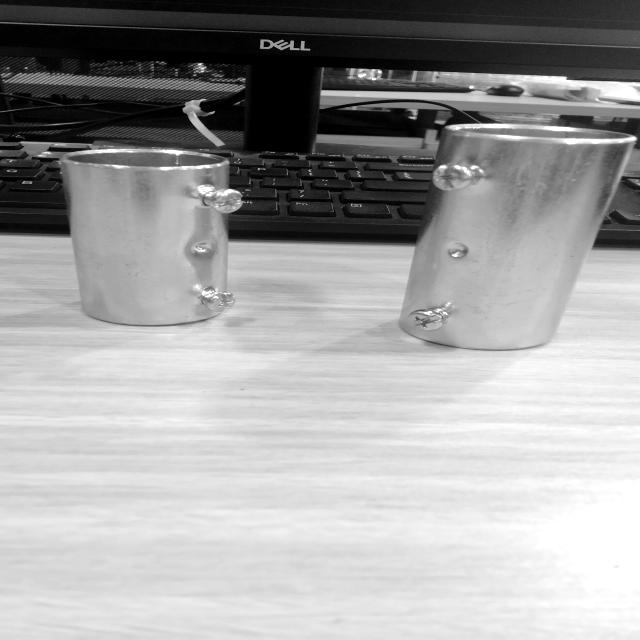Co_Lon: (396, 96, 635, 375)
Co_Nho: (61, 144, 245, 328)
